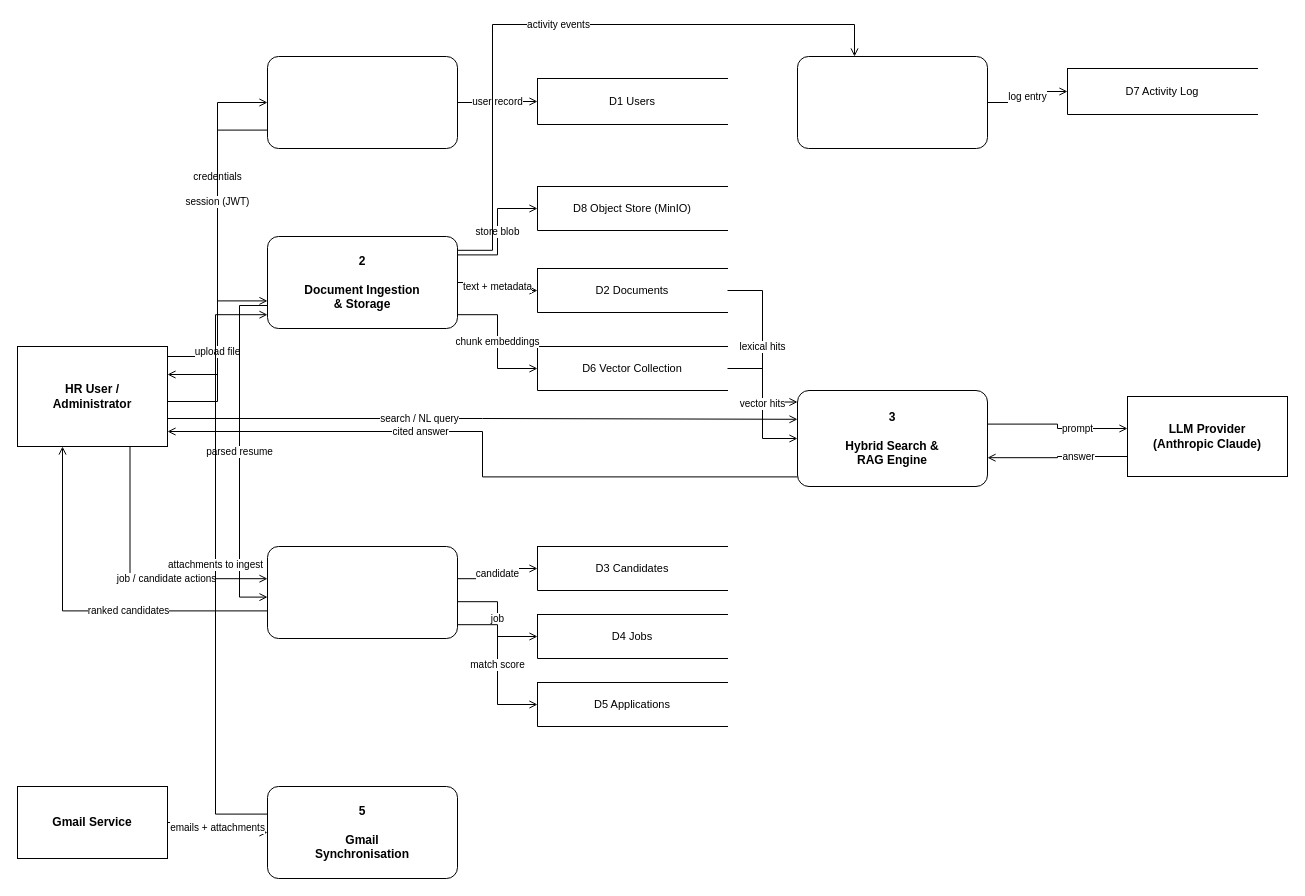
Some shapes in this 1305 by 896 pixel diagram are drawn without their labels. The box of each missing label's shape, as (x1, y1, x2, y2) in pixels:
1 Authentication & Session Management: (266, 56, 458, 148)
4 Job & Candidate Management: (266, 546, 458, 638)
6 Activity Logging: (796, 56, 988, 148)
